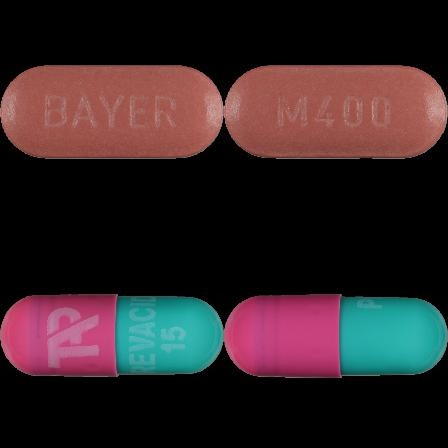16590-881: (0, 0, 224, 224)
